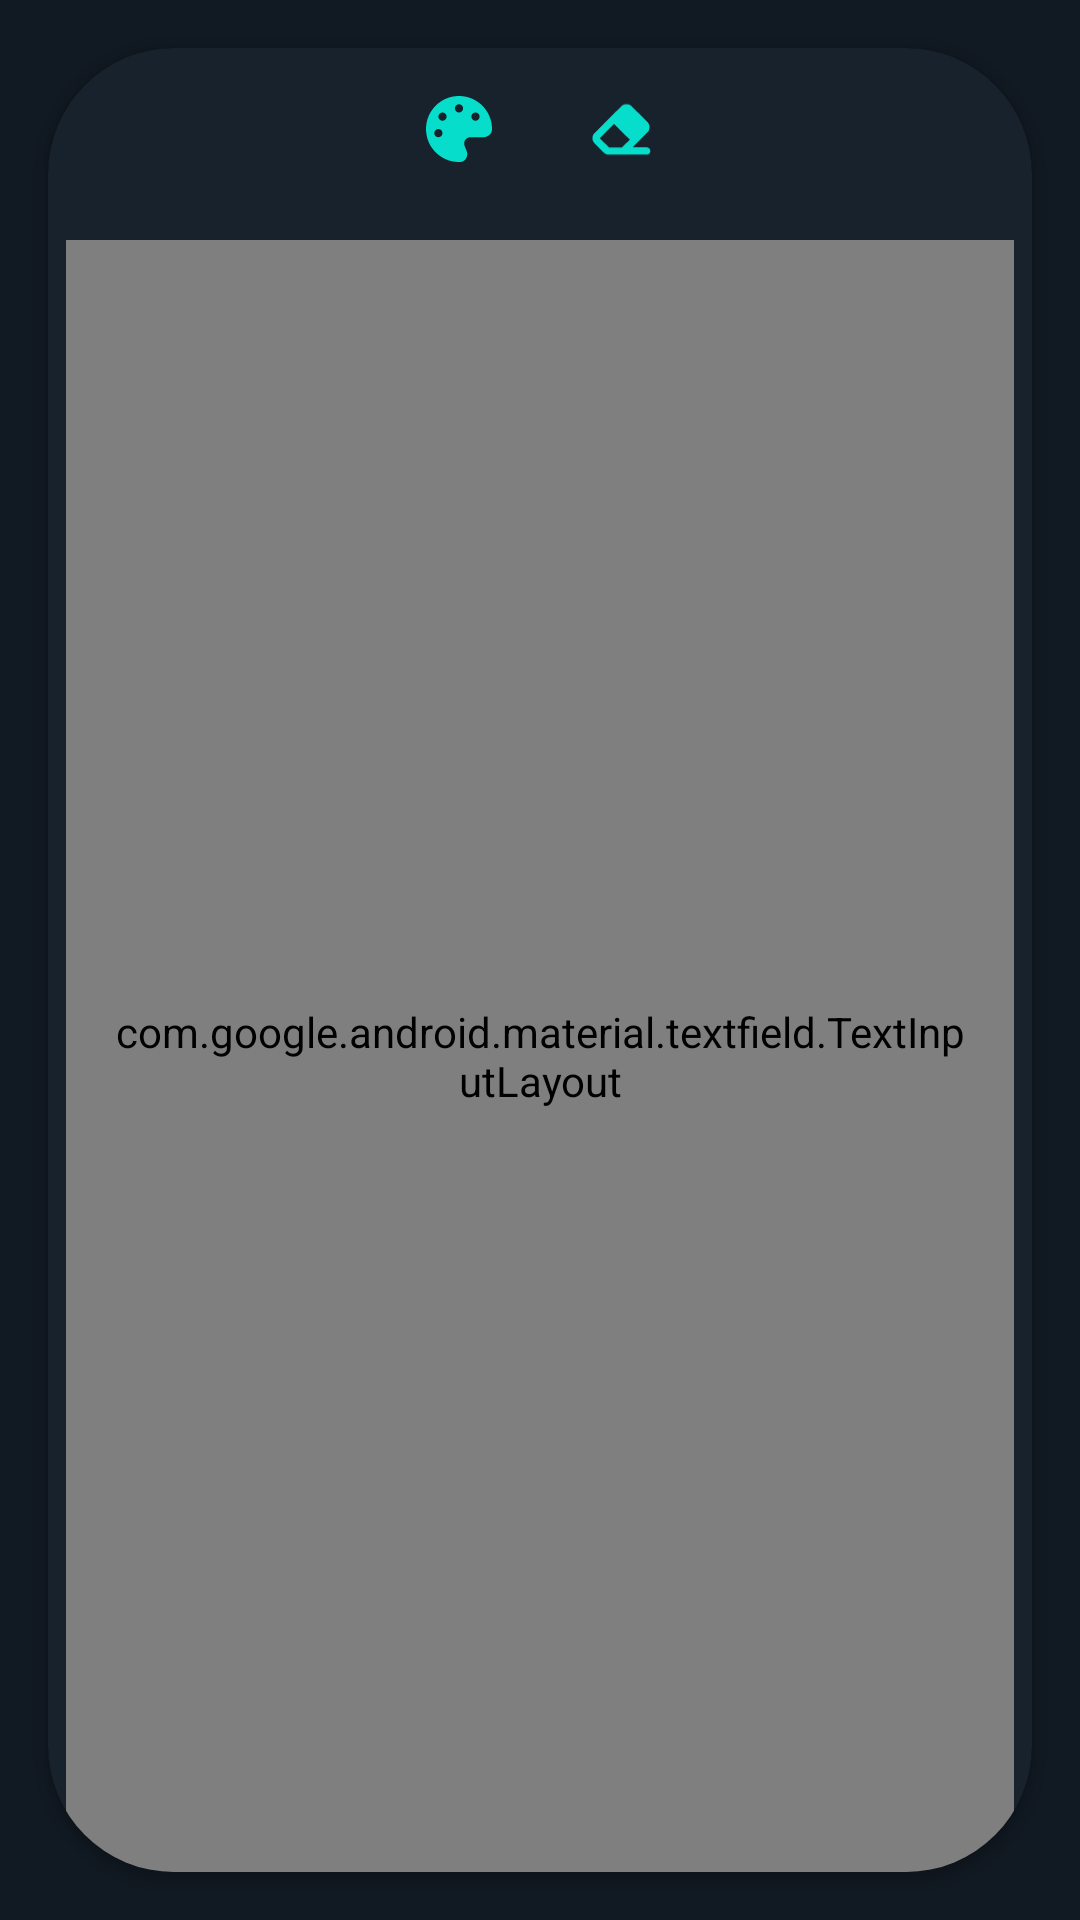

Icon bounding boxes for this 1080px×1920px phone screenshot, format {"left": x1, "top": y1, "right": x2, "bottom": y2}:
eraser: {"left": 592, "top": 104, "right": 651, "bottom": 155}
palette: {"left": 426, "top": 96, "right": 492, "bottom": 162}
